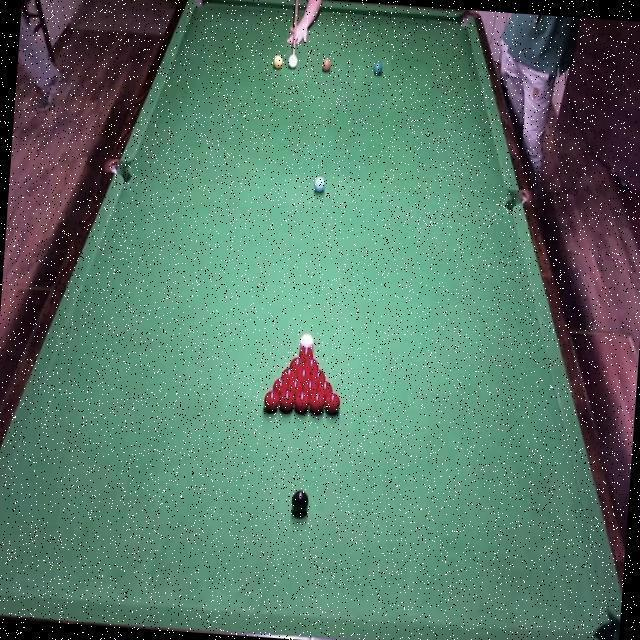Ball: (291, 489, 310, 517), (261, 390, 280, 415), (307, 392, 324, 415), (292, 391, 309, 414), (324, 393, 340, 415), (278, 392, 294, 414), (317, 380, 333, 398), (299, 333, 315, 350), (311, 369, 326, 386), (273, 378, 288, 394), (281, 368, 296, 384), (303, 379, 317, 395), (305, 355, 319, 371), (291, 356, 304, 373), (286, 382, 301, 396), (372, 60, 384, 77), (313, 175, 325, 192), (297, 369, 310, 384), (288, 55, 299, 71), (298, 347, 314, 358), (322, 58, 332, 74), (273, 54, 283, 69)
